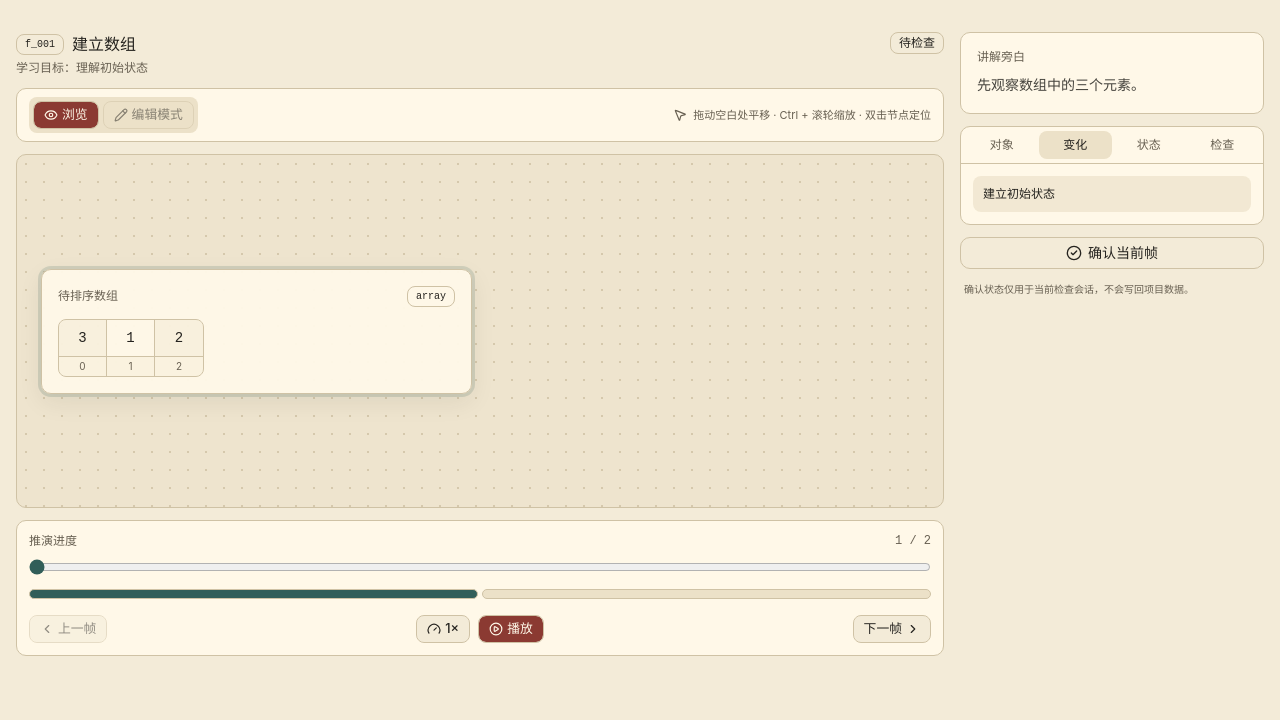
Test: FrameWorkbench › renders visual objects and supports frame inspection
This screenshot has width=1280, height=720.
Expected: the heading "建立数组" is shown, [72,32,136,56]
Expected: the list named "待排序数组" is shown, [58,318,204,376]
Click the button "下一帧" at (892, 629), box [853,615,931,643]
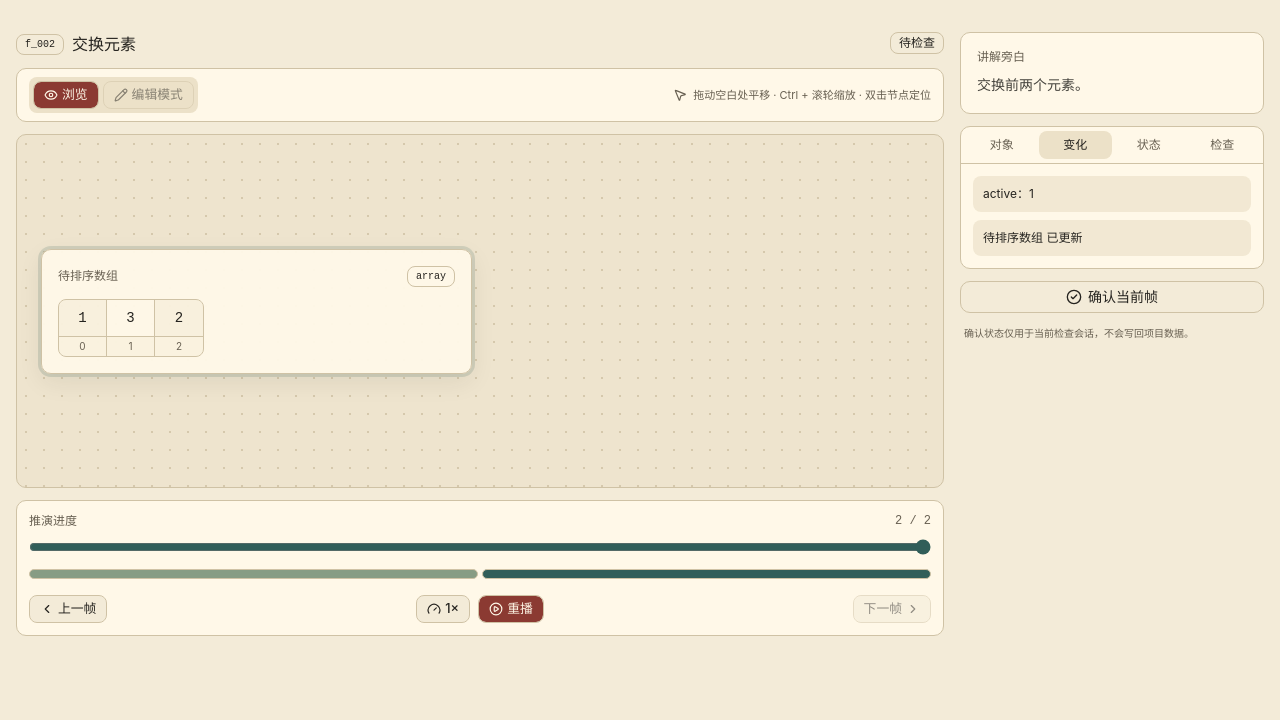
Expected: the heading "交换元素" is shown, [72,32,136,56]
Expected: the list item "active：1" is shown, [973,176,1251,212]
Click the button "检查" at (1222, 145), box [1186,131,1259,159]
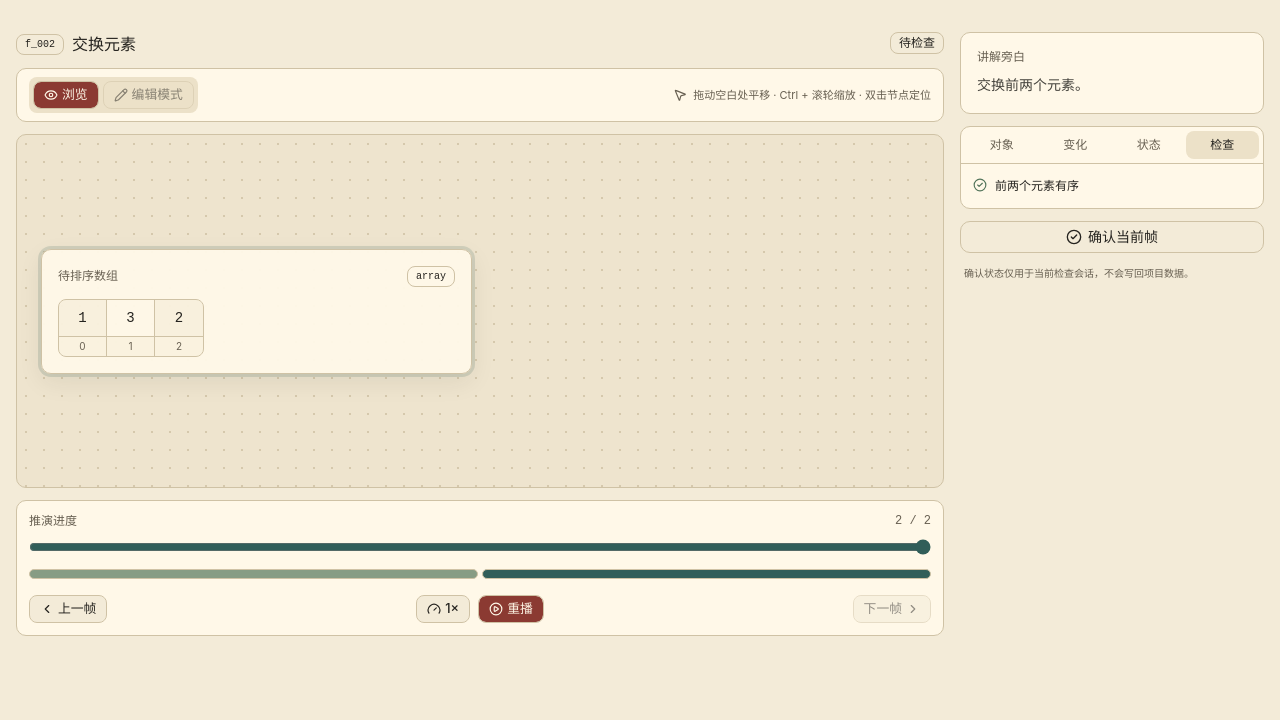
Expected: the list item "前两个元素有序" is shown, [973,178,1079,193]
